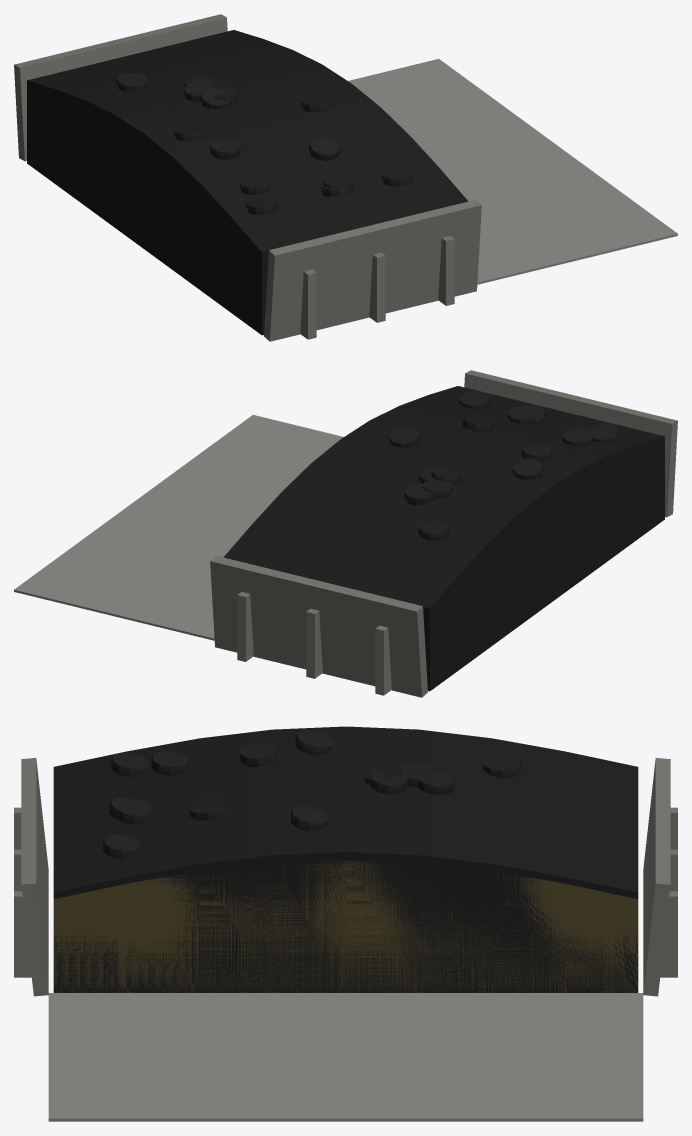
The model's file is SM_Prop_farm_clamp_1.glb.
The picture shows the model from 3 angles, top to bottom: view 1: azimuth 30°, elevation 25°; view 2: azimuth 150°, elevation 25°; view 3: azimuth 270°, elevation 25°; orthographic projection. The views are drawn at different scales.
Visible parts, largest first — view 1: SM_Prop_farm_clamp_1; view 2: SM_Prop_farm_clamp_1; view 3: SM_Prop_farm_clamp_1.
Part boxes in pixels (x1,y1,x2,y2): SM_Prop_farm_clamp_1: (14,14,677,341); SM_Prop_farm_clamp_1: (14,370,677,697); SM_Prop_farm_clamp_1: (14,726,677,1121).
Bounding box in the file's own units: 12 × 3.46 × 13.4.
